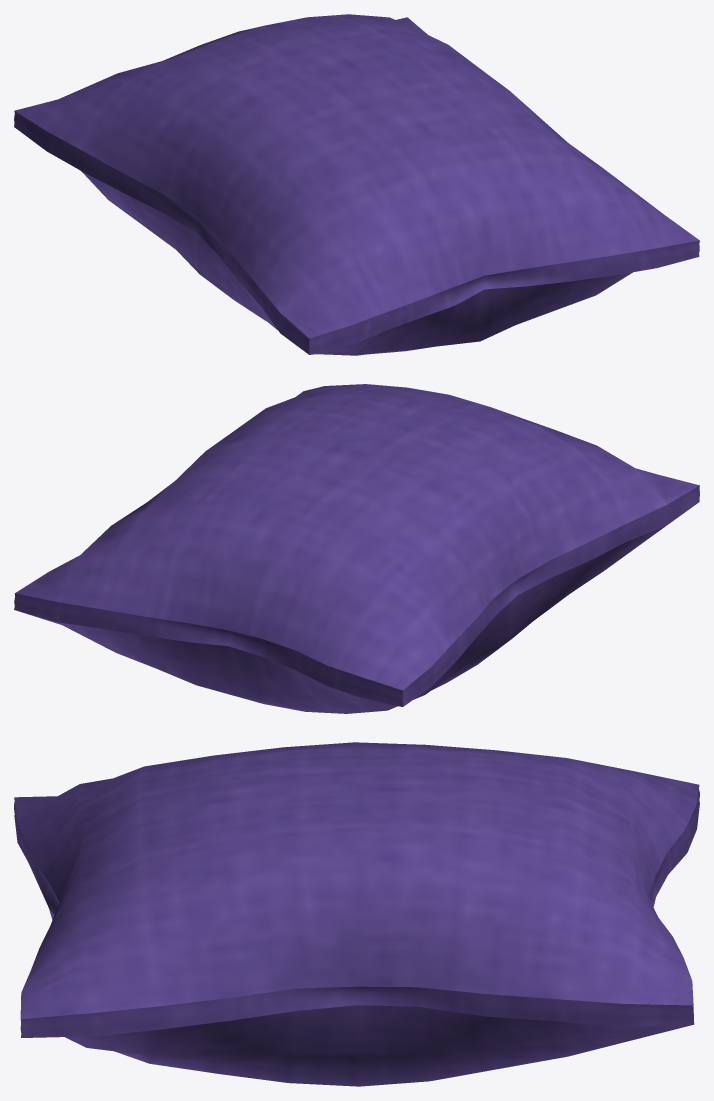
Rendered from Pillow_pons.glb.
3 renders of one model, top to bottom at view 1: azimuth 30°, elevation 25°; view 2: azimuth 150°, elevation 25°; view 3: azimuth 270°, elevation 25°, orthographic. The views are drawn at different scales.
Parts seen in each view (by area): view 1: pCube1; view 2: pCube1; view 3: pCube1.
Boxes of the visible parts, x1,y1,x2,y2 form: pCube1: (14, 14, 699, 355); pCube1: (14, 384, 699, 713); pCube1: (14, 742, 699, 1086).
Bounding box in the file's own units: 9.28 × 4.9 × 12.1.
1 material, 1 textured.
